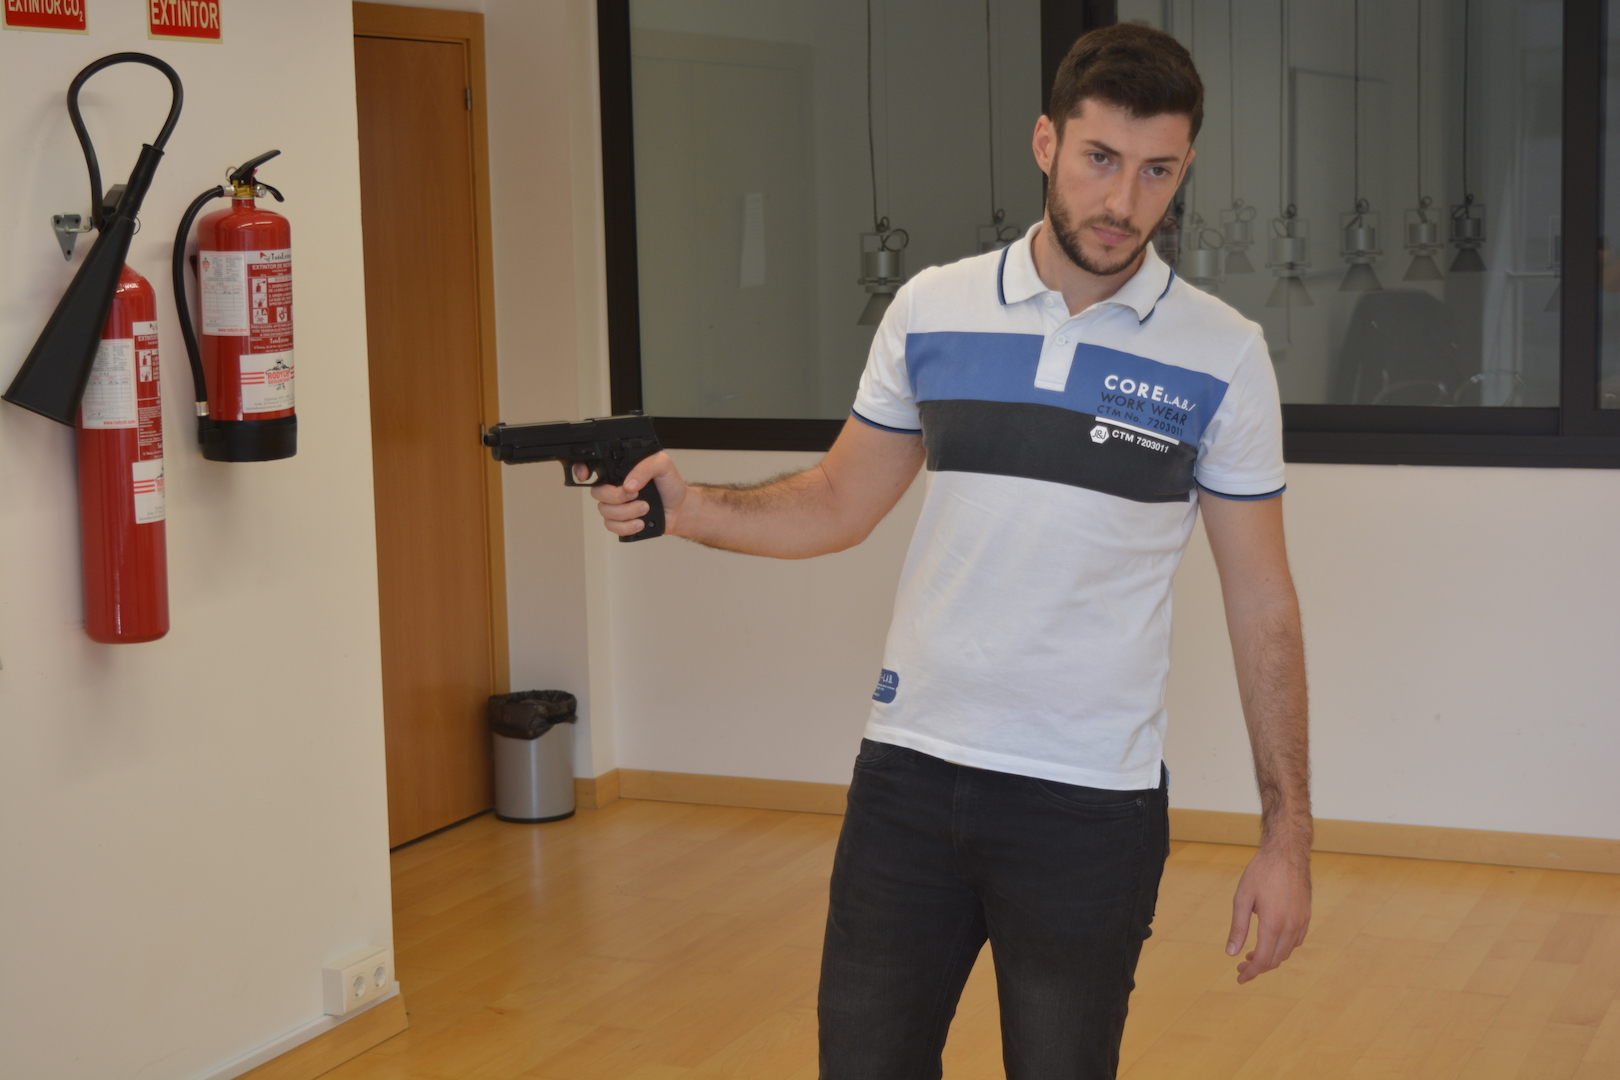pistol: (483, 409, 667, 542)
